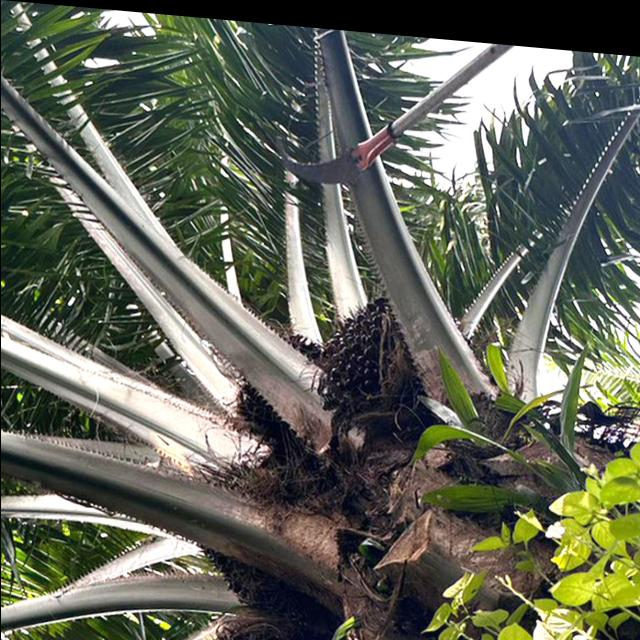unripe: (304, 276, 429, 451)
